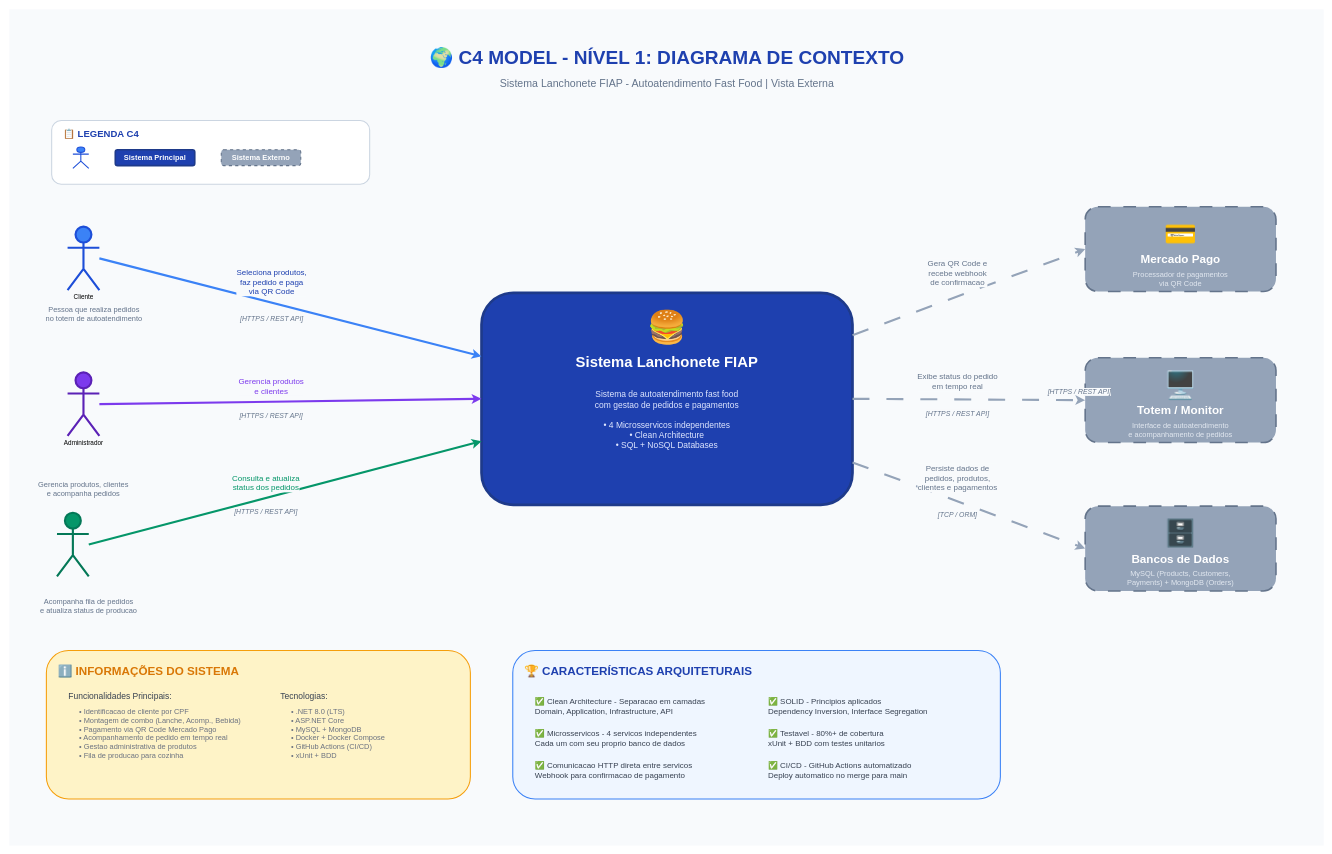
This 1332x854 diagram has some shape labels left out. Here are the shapes that lost their labels. From the top down, the centre of each, then its label:
point (80, 157): Pessoa
point (73, 544): Cozinha
